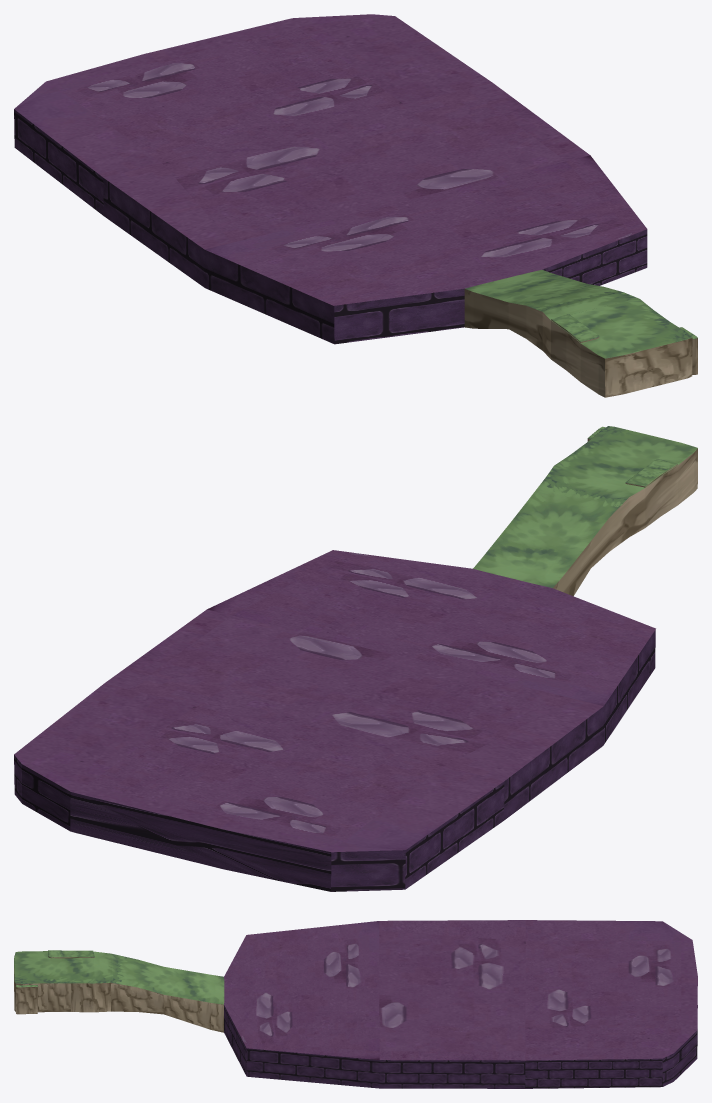
Rendered from BOSS--1.fbx.
3 renders of one model, top to bottom at view 1: azimuth 30°, elevation 25°; view 2: azimuth 150°, elevation 25°; view 3: azimuth 270°, elevation 25°, orthographic. The views are drawn at different scales.
Visible parts, largest first — view 1: BOSS關地板; view 2: BOSS關地板; view 3: BOSS關地板.
Part boxes in pixels (left/top/right/bottom): BOSS關地板: left=14, top=14, right=697, bottom=397; BOSS關地板: left=14, top=426, right=697, bottom=891; BOSS關地板: left=14, top=920, right=697, bottom=1088.
Bounding box in the file's own units: 7327 × 1324 × 15080.
5 materials, 5 textured.
